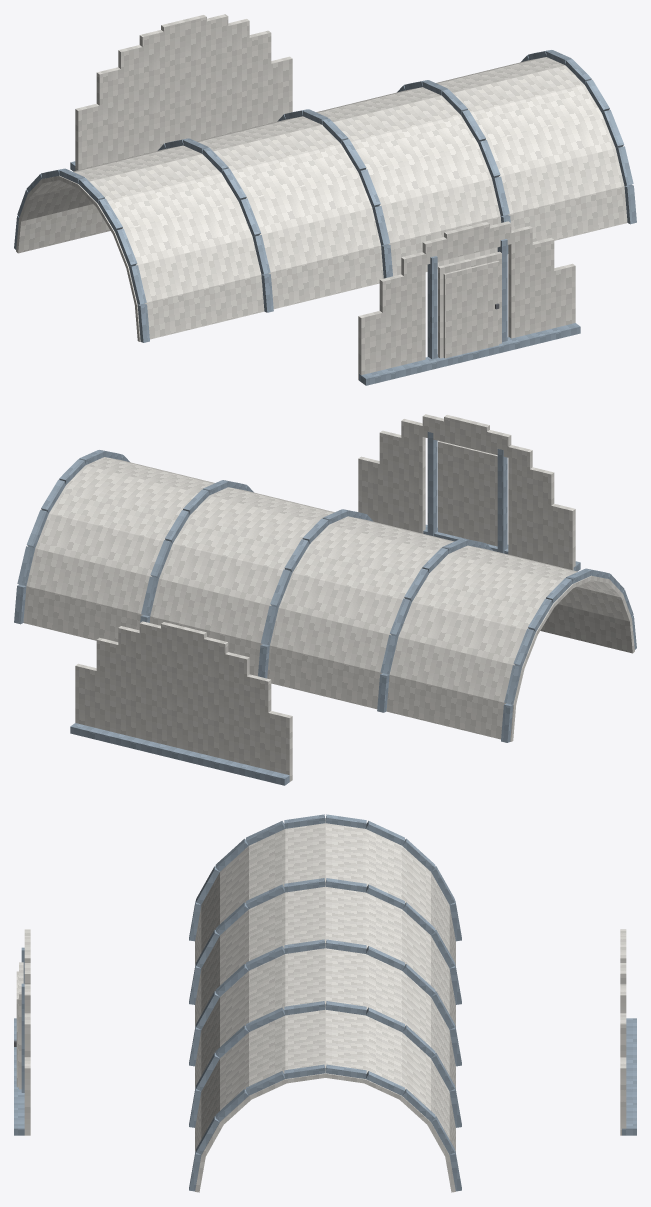
The model's file is pixel-modern-farm-polytunnel-2050b571__29097.glb.
The picture shows the model from 3 angles, top to bottom: view 1: azimuth 30°, elevation 25°; view 2: azimuth 150°, elevation 25°; view 3: azimuth 270°, elevation 25°; orthographic projection. The views are drawn at different scales.
Parts seen in each view (by area): view 1: polytunnel, door/white; view 2: polytunnel, door/white; view 3: polytunnel, door/white.
Boxes of the visible parts, x1,y1,x2,y2 form: polytunnel: [14, 14, 636, 385]; door/white: [438, 251, 501, 358]; polytunnel: [14, 414, 636, 785]; door/white: [438, 441, 497, 546]; polytunnel: [14, 814, 636, 1192]; door/white: [16, 962, 23, 1089].
Bounding box in the file's own units: 12 × 3.07 × 12.42.
3 materials, 3 textured.
